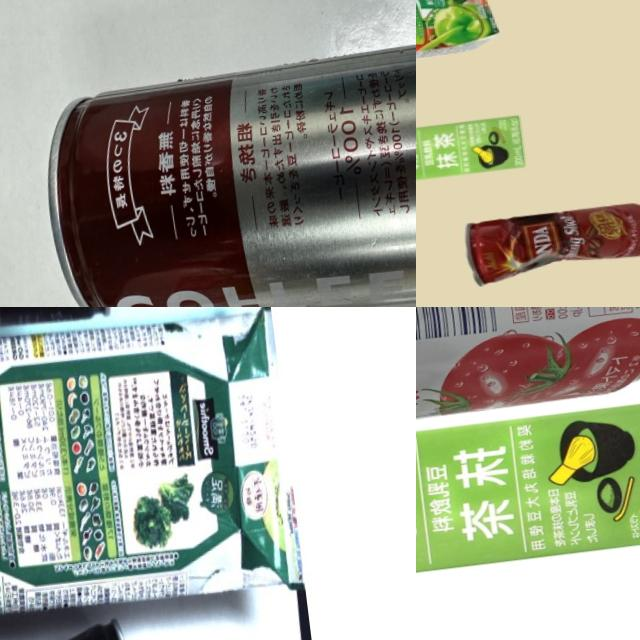Aluminium Foil: (0, 307, 309, 640), (416, 393, 640, 605), (416, 107, 535, 196), (416, 0, 498, 77)
Can: (31, 37, 416, 307), (416, 307, 640, 451), (451, 192, 640, 285)
